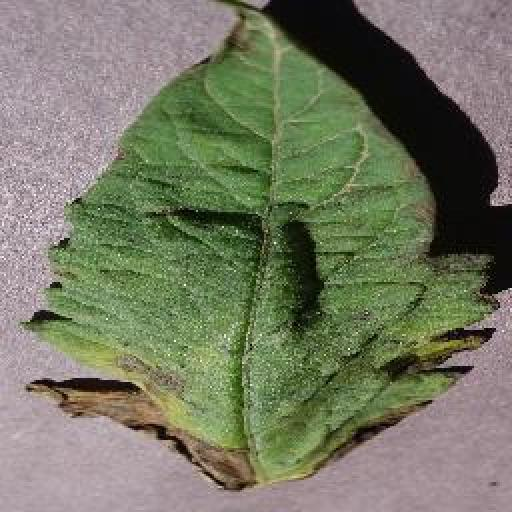Early Blight: (22, 0, 500, 495)
